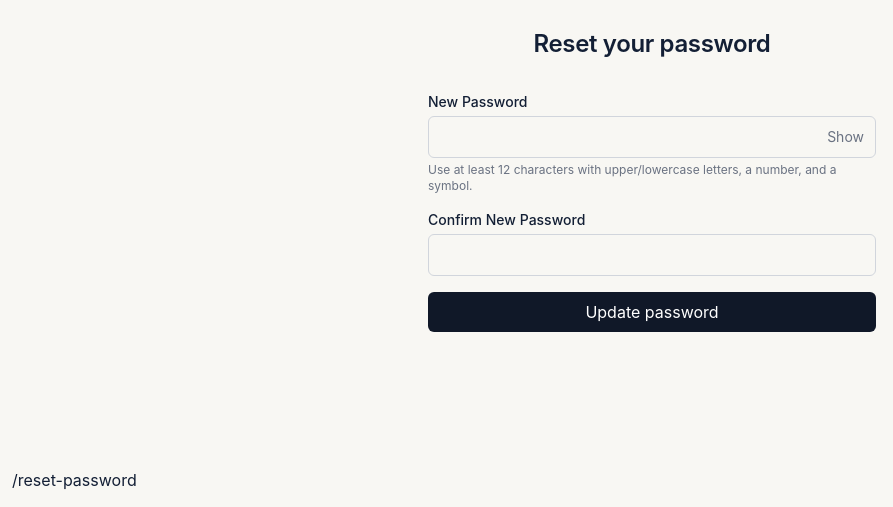
Scenario: password reset email flow › rejects a weak new password before contacting the provider
This screenshot has width=893, height=507.
In the password field labelled "New Password": (652, 137) [428, 116, 876, 158], type "short"
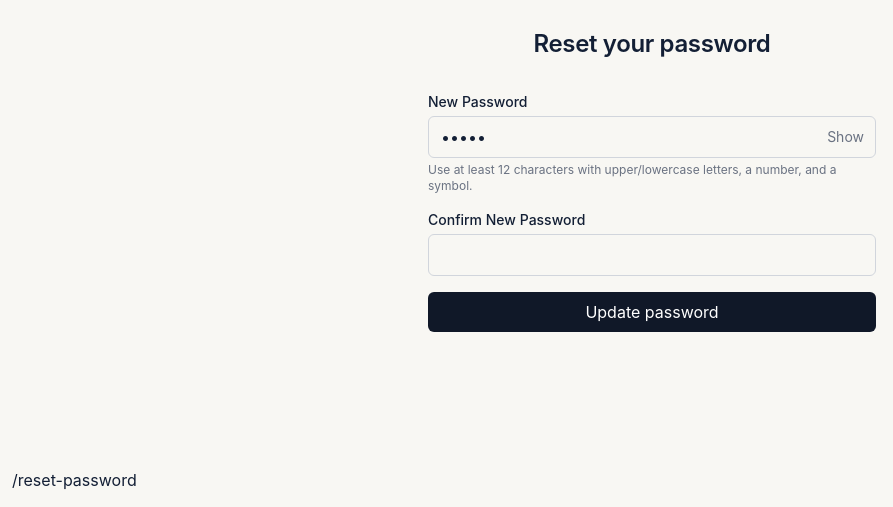
In the password field labelled "Confirm New Password": (652, 255) [428, 234, 876, 276], type "short"
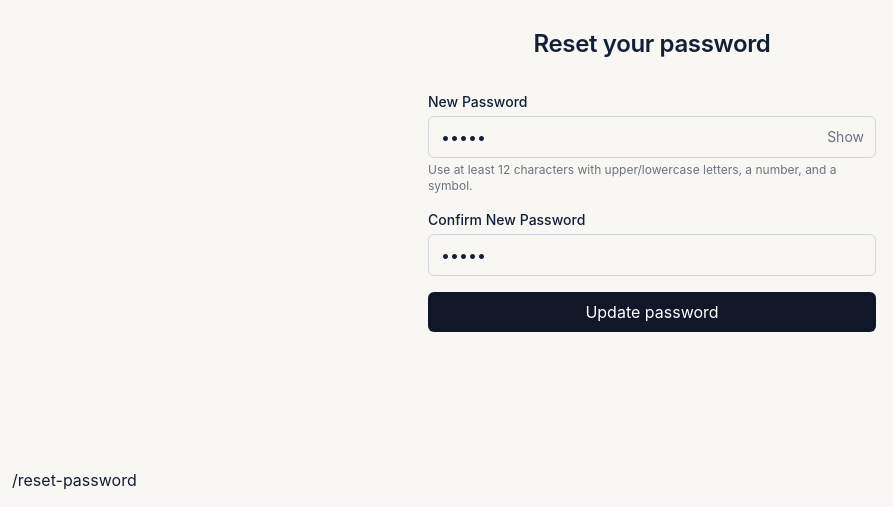
Click the button "Update password": (652, 312) [428, 292, 876, 332]
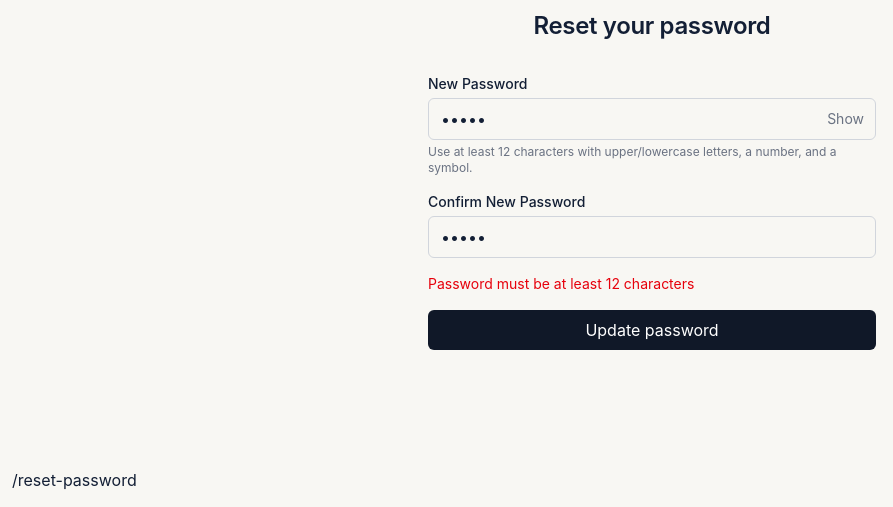
Result: the message shows "at least 12 characters" at [428, 275, 694, 292]
